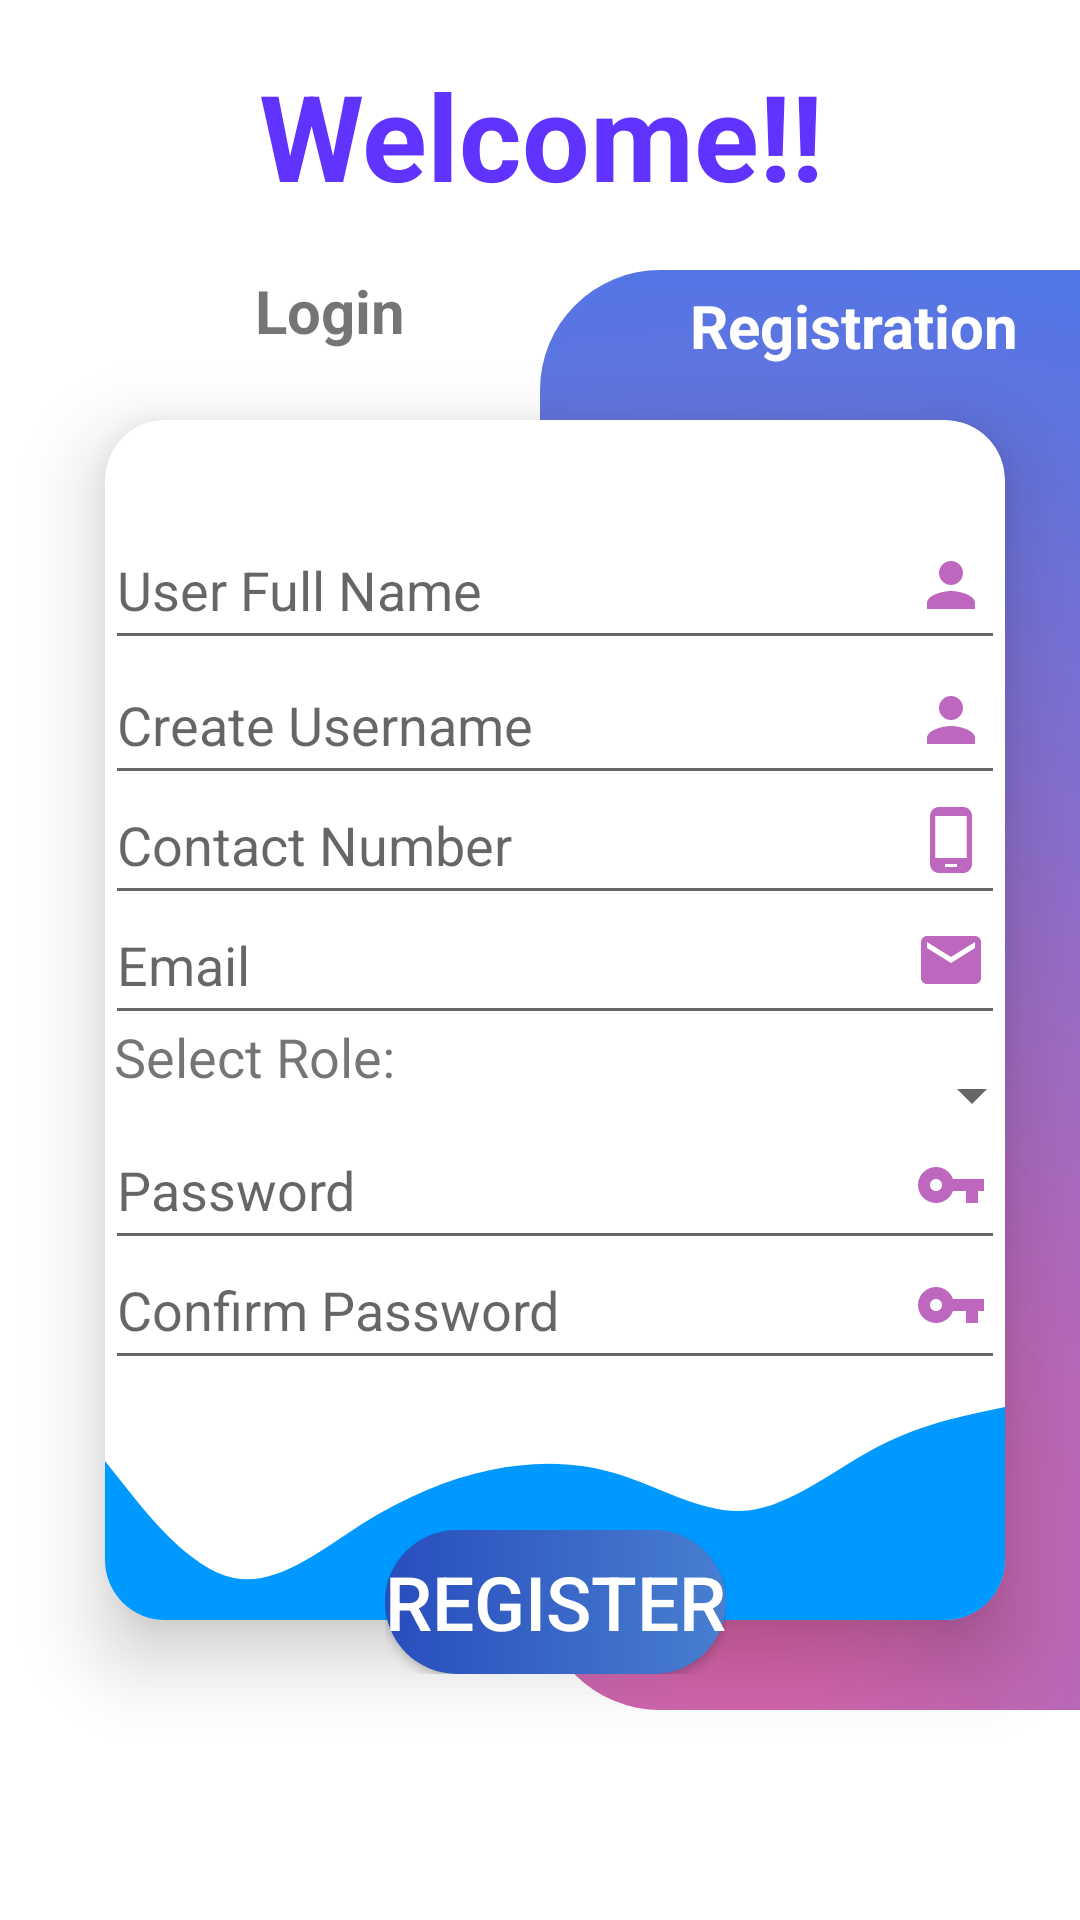

Icons on this 1080px x 1920px Android screen, each with its box as (x1, y1, x2, y2):
person: (927, 561, 975, 609), (927, 696, 975, 744)
phone android: (930, 807, 972, 873)
vpn key: (918, 1167, 984, 1203), (918, 1287, 984, 1323)
